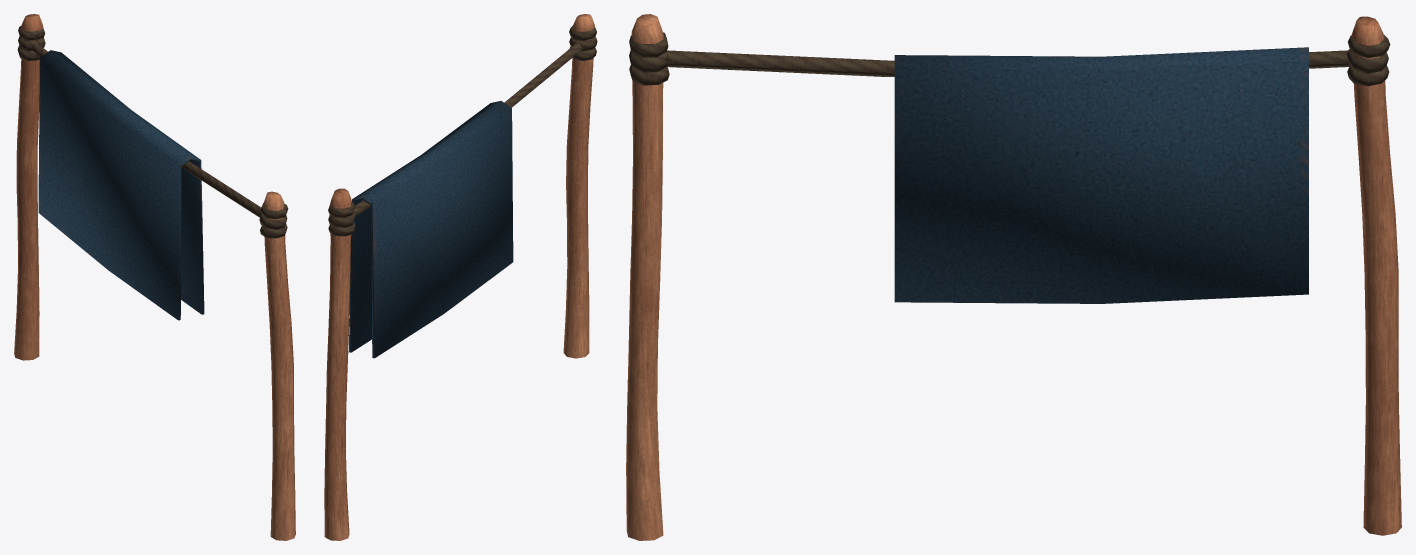
File: Drying line 1.fbx
3 views of the same model, side by side, from view 1: azimuth 30°, elevation 25°; view 2: azimuth 150°, elevation 25°; view 3: azimuth 270°, elevation 25° (orthographic). The views are drawn at different scales.
Parts seen in each view (by area): view 1: Drying line 1; view 2: Drying line 1; view 3: Drying line 1.
Part boxes in pixels (box(x1,y1,x2,y2)): Drying line 1: box(14, 14, 295, 540); Drying line 1: box(324, 14, 597, 540); Drying line 1: box(626, 14, 1401, 540).
Size of the model in its own units: 0.1172 by 1.22 by 1.69.
